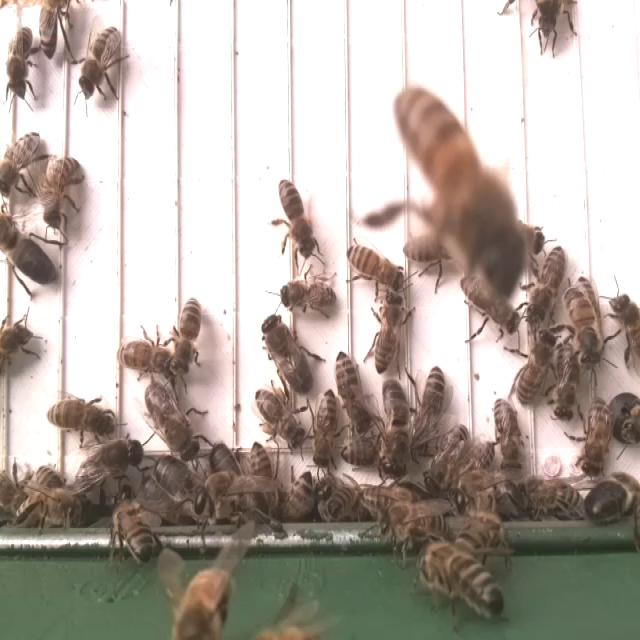Drone: (258, 308, 316, 397), (142, 378, 203, 460), (152, 449, 211, 522), (74, 434, 144, 495), (0, 214, 56, 289), (380, 373, 414, 484), (579, 475, 640, 527)
Worker: (253, 383, 309, 450), (526, 243, 567, 330), (425, 422, 473, 494), (277, 175, 316, 261), (81, 26, 126, 100), (43, 394, 117, 438), (373, 293, 410, 378), (565, 286, 602, 371), (514, 331, 557, 404), (578, 392, 612, 482), (40, 153, 80, 229), (494, 394, 532, 474), (413, 363, 447, 452), (334, 347, 370, 431), (0, 127, 42, 198), (170, 295, 204, 378), (343, 242, 405, 287), (117, 335, 182, 376), (552, 341, 583, 426), (313, 390, 343, 471), (6, 23, 36, 102), (278, 276, 338, 315)
